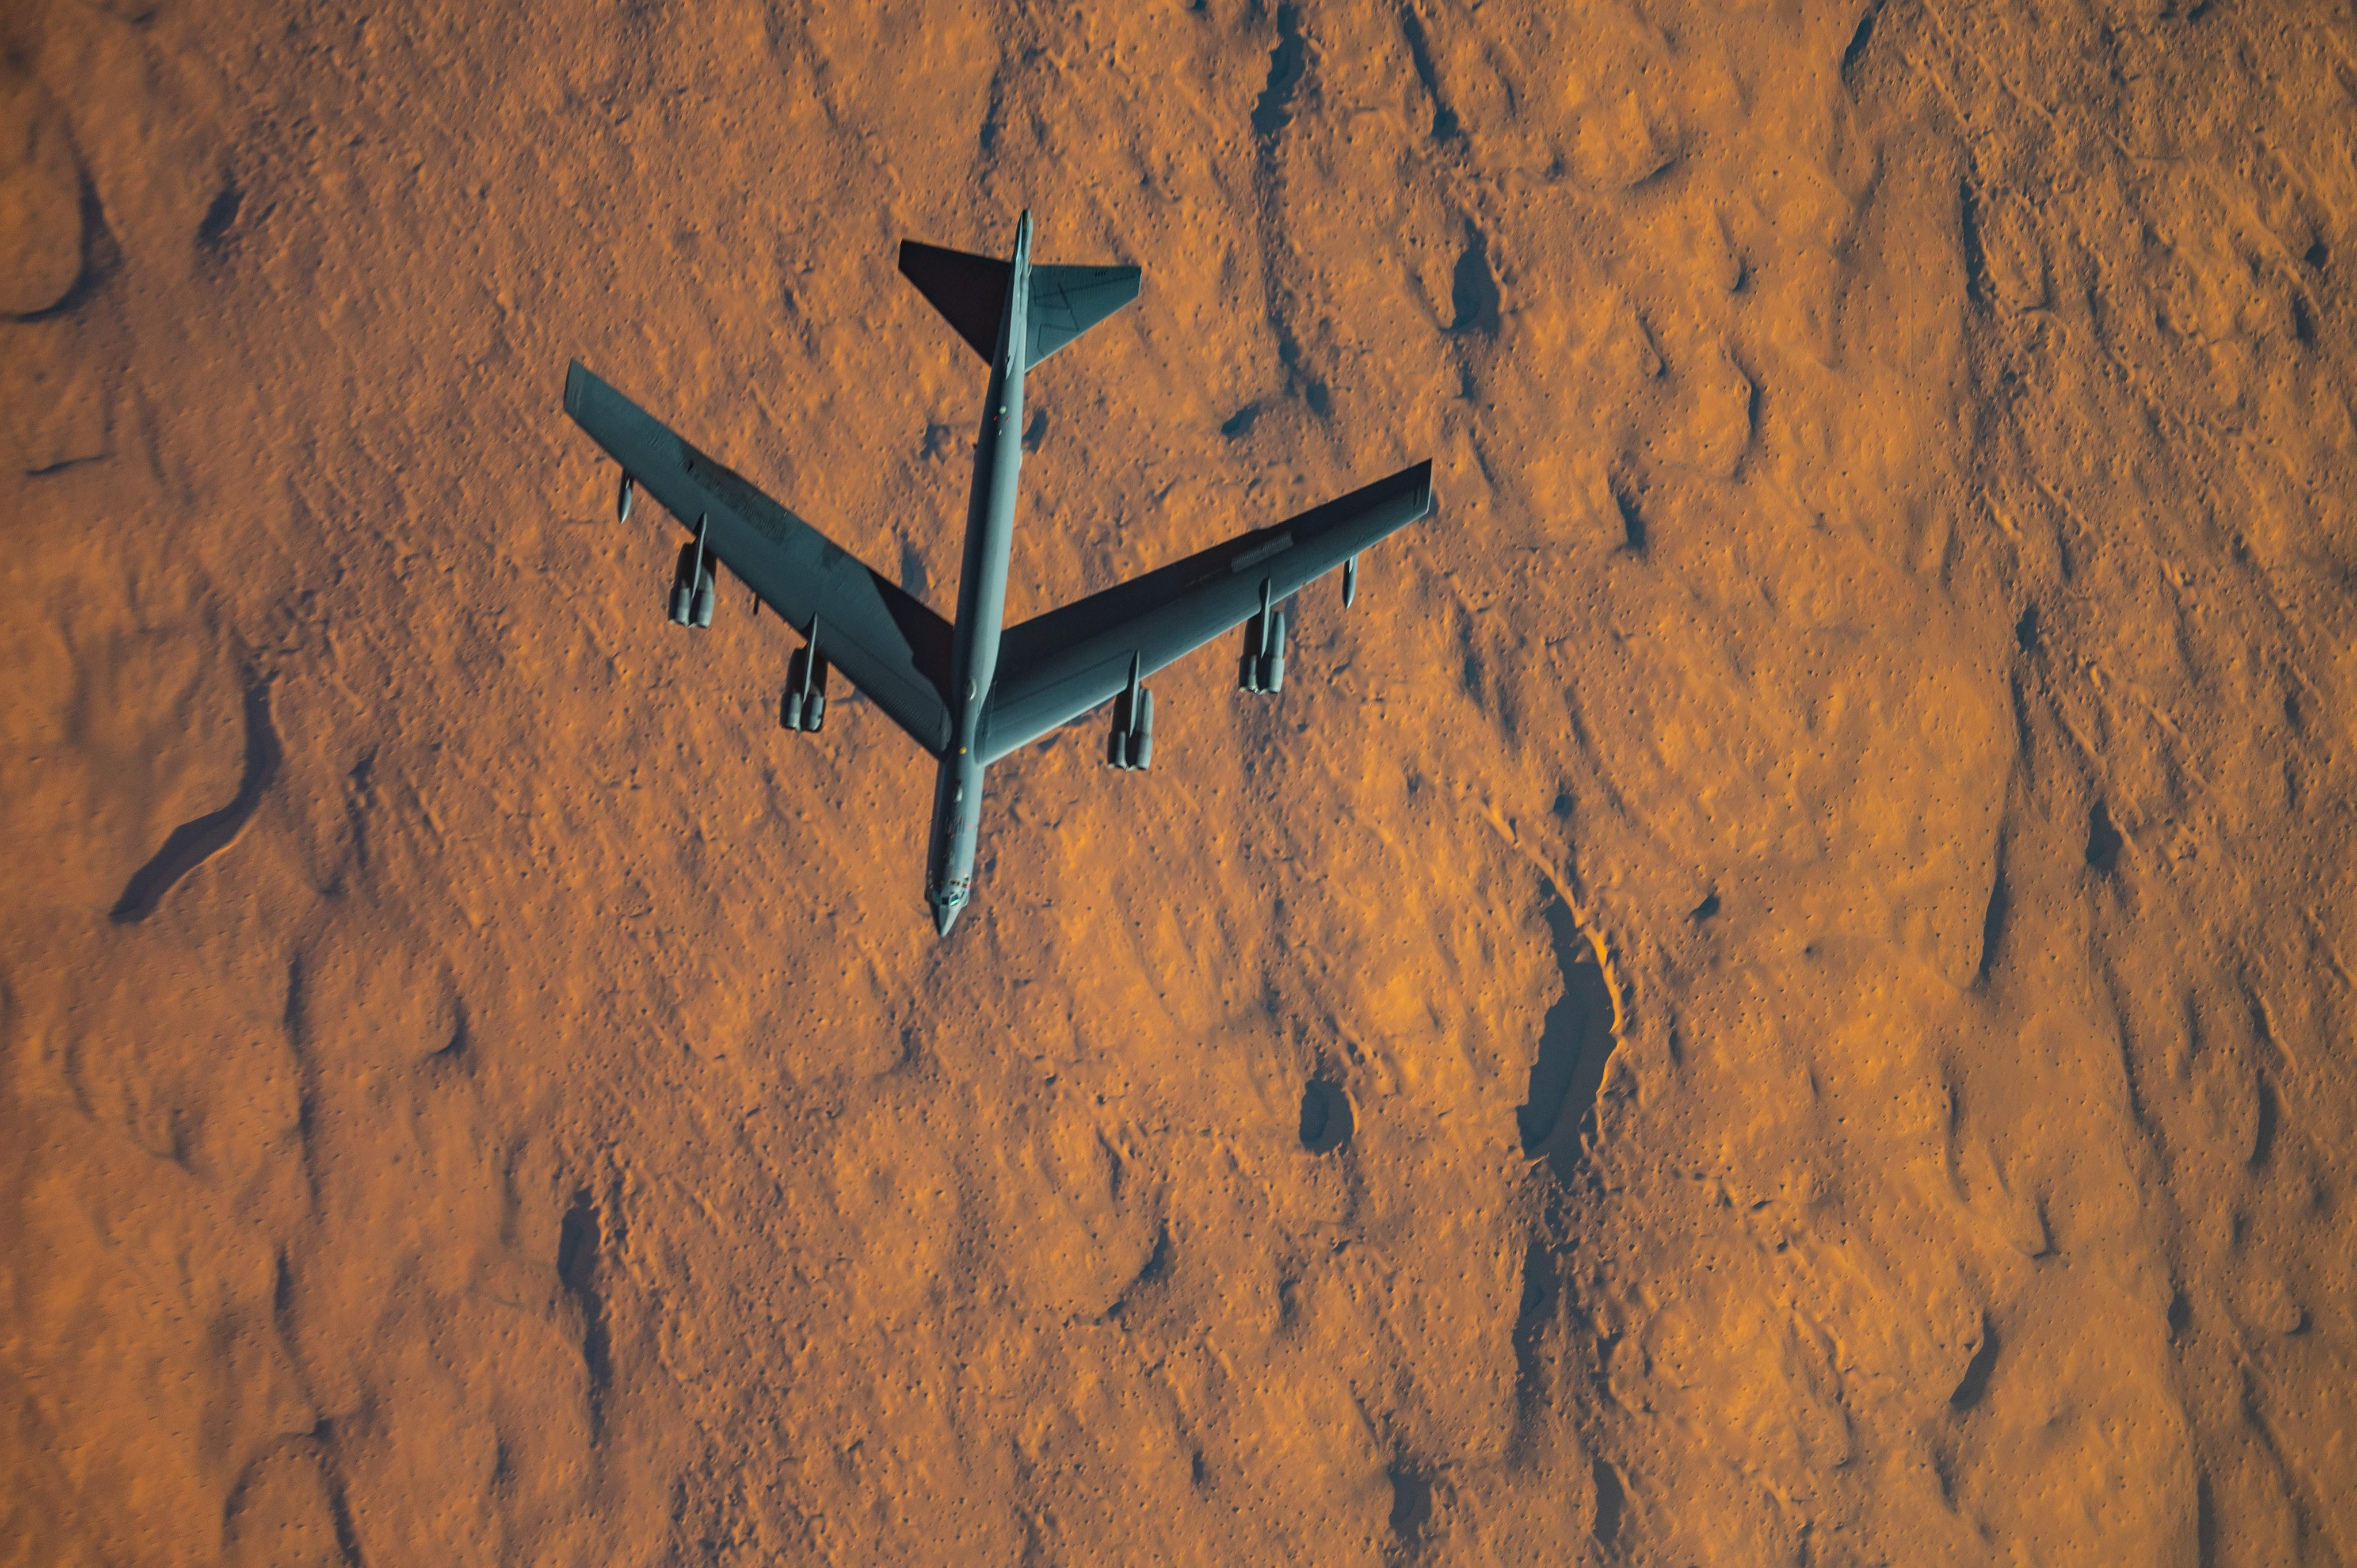B52: (562, 206, 1433, 938)
